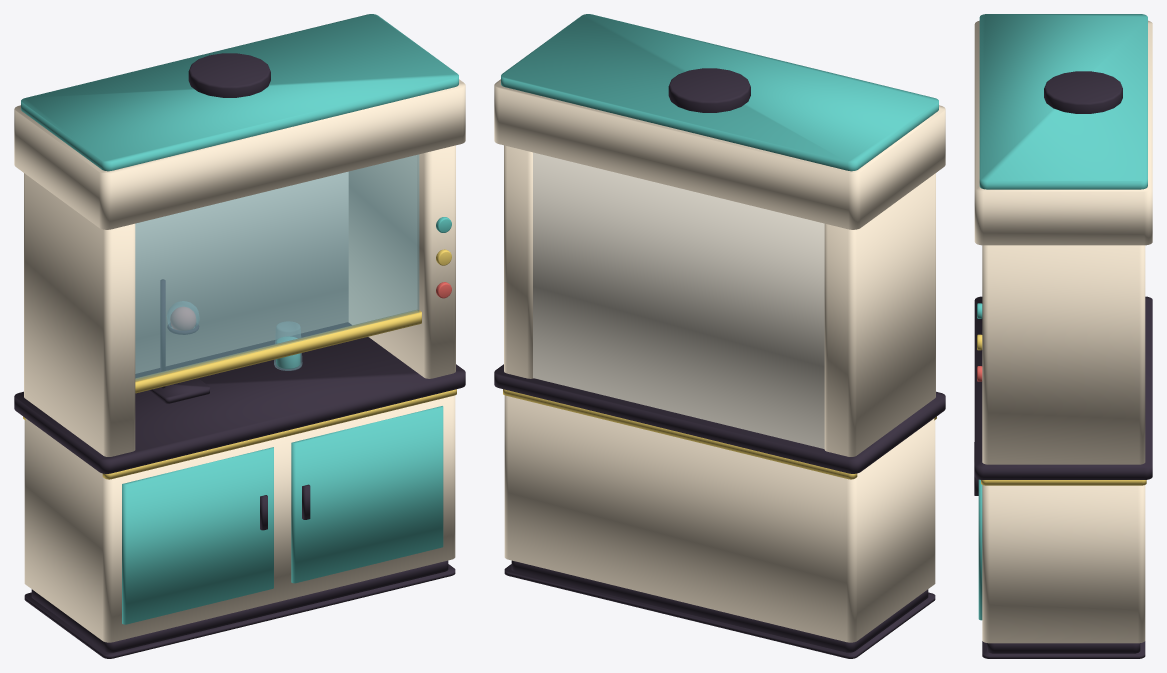
File: fume-hood-cabinet.glb
3 views of the same model, side by side, from view 1: azimuth 30°, elevation 25°; view 2: azimuth 150°, elevation 25°; view 3: azimuth 270°, elevation 25° (orthographic). The views are drawn at different scales.
Visible parts, largest first — view 1: LabFumeHood_CreamHousing, LabFumeHood_TurquoiseDoorsAndTrim, LabFumeHood_GlassSashAndFlasks, LabFumeHood_SlateDeckAndStand, LabFumeHood_CreamChamber, LabFumeHood_ButterSafetyAndHandle, LabFumeHood_CoralFlaskAndStop; view 2: LabFumeHood_CreamHousing, LabFumeHood_CreamChamber, LabFumeHood_TurquoiseDoorsAndTrim, LabFumeHood_SlateDeckAndStand, LabFumeHood_ButterSafetyAndHandle; view 3: LabFumeHood_CreamHousing, LabFumeHood_TurquoiseDoorsAndTrim, LabFumeHood_SlateDeckAndStand, LabFumeHood_ButterSafetyAndHandle.
Boxes of the visible parts, x1,y1,x2,y2 form: LabFumeHood_CreamHousing: (14, 79, 465, 642); LabFumeHood_TurquoiseDoorsAndTrim: (21, 14, 458, 624); LabFumeHood_GlassSashAndFlasks: (135, 154, 419, 381); LabFumeHood_SlateDeckAndStand: (14, 53, 465, 658); LabFumeHood_CreamChamber: (135, 172, 348, 373); LabFumeHood_ButterSafetyAndHandle: (23, 249, 456, 479); LabFumeHood_CoralFlaskAndStop: (170, 282, 451, 330); LabFumeHood_CreamHousing: (494, 79, 945, 642); LabFumeHood_CreamChamber: (533, 152, 824, 448); LabFumeHood_TurquoiseDoorsAndTrim: (501, 14, 938, 171); LabFumeHood_SlateDeckAndStand: (494, 68, 945, 658); LabFumeHood_ButterSafetyAndHandle: (503, 389, 936, 479); LabFumeHood_CreamHousing: (974, 20, 1152, 643); LabFumeHood_TurquoiseDoorsAndTrim: (977, 14, 1147, 620); LabFumeHood_SlateDeckAndStand: (974, 71, 1152, 658); LabFumeHood_ButterSafetyAndHandle: (977, 334, 1146, 485).
Bounding box in the file's own units: 1.64 × 2.18 × 0.7225.
